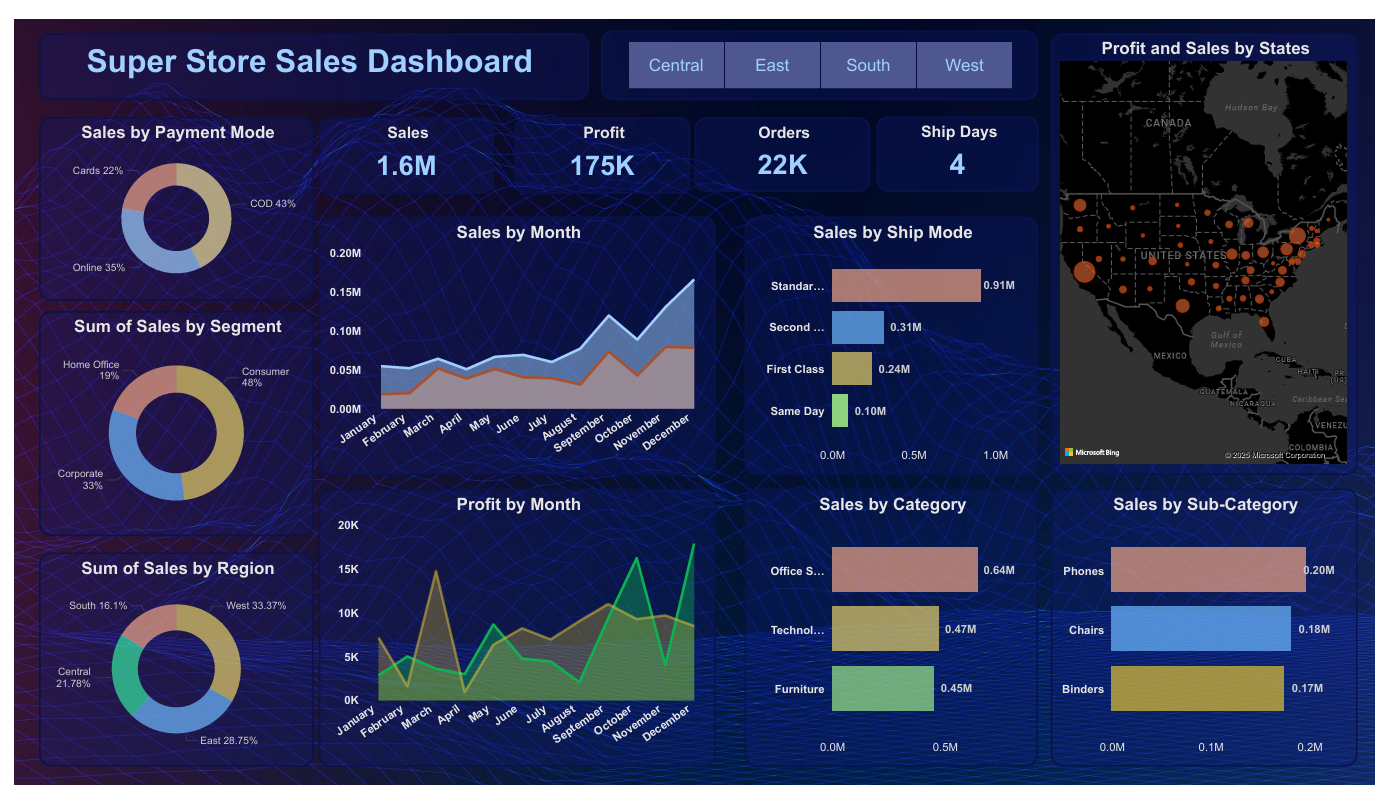

Layout of this report page (visuals, bound fields, positions):
{"tool":"powerbi","page":{"name":"Page 1","canvas":[1600,900],"ordinal":0},"visuals":[{"type":"clusteredBarChart","title":" Sales by Category","fields":{"Category":["SuperStore_Sales_Dataset.Category"],"Y":["Sum(SuperStore_Sales_Dataset.Sales)"]},"box":[859.3,551.9,345.1,327.2],"z":0},{"type":"clusteredBarChart","title":" Sales by Sub-Category","fields":{"Category":["SuperStore_Sales_Dataset.Sub-Category"],"Y":["Sum(SuperStore_Sales_Dataset.Sales)"]},"box":[1218.8,551.9,361.3,327.2],"z":1000},{"type":"clusteredBarChart","title":" Sales by Ship Mode","fields":{"Category":["SuperStore_Sales_Dataset.Ship Mode"],"Y":["Sum(SuperStore_Sales_Dataset.Sales)"]},"box":[859.3,231.9,345.1,303.8],"z":2000},{"type":"areaChart","title":"Sales by Month","fields":{"Category":["SuperStore_Sales_Dataset.Order Date.Variation.Date Hierarchy.Month"],"Series":["SuperStore_Sales_Dataset.Order Date.Variation.Date Hierarchy.Year"],"Y":["Sum(SuperStore_Sales_Dataset.Sales)"]},"box":[357.7,231.9,467.4,303.8],"z":3000},{"type":"areaChart","title":"Profit by Month","fields":{"Category":["SuperStore_Sales_Dataset.Order Date.Variation.Date Hierarchy.Month"],"Series":["SuperStore_Sales_Dataset.Order Date.Variation.Date Hierarchy.Year"],"Y":["Sum(SuperStore_Sales_Dataset.Profit)"]},"box":[357.7,551.9,467.4,327.2],"z":4000},{"type":"map","title":"Profit and Sales by States ","fields":{"Category":["SuperStore_Sales_Dataset.State"],"Size":["Sum(SuperStore_Sales_Dataset.Sales)"]},"box":[1218.8,16.2,361.3,519.5],"z":5000},{"type":"donutChart","fields":{"Category":["SuperStore_Sales_Dataset.Segment"],"Y":["Sum(SuperStore_Sales_Dataset.Sales)"]},"box":[28.8,343.3,323.6,264.3],"z":6000},{"type":"donutChart","title":"Sales by Payment Mode","fields":{"Category":["SuperStore_Sales_Dataset.Payment Mode"],"Y":["Sum(SuperStore_Sales_Dataset.Sales)"]},"box":[28.8,115,323.6,215.7],"z":7000},{"type":"slicer","fields":{"Values":["SuperStore_Sales_Dataset.Region"]},"box":[690.3,12.6,514.1,82.7],"z":8000},{"type":"textbox","box":[28.8,16.2,647.2,79.1],"z":9000},{"type":"card","title":"Sales","fields":{"Values":["Sum(SuperStore_Sales_Dataset.Sales)"]},"box":[357.7,115,206.7,89.9],"z":10000},{"type":"card","title":"Profit","fields":{"Values":["Sum(SuperStore_Sales_Dataset.Profit)"]},"box":[587.8,115,206.7,89.9],"z":11000},{"type":"card","title":"Orders","fields":{"Values":["Sum(SuperStore_Sales_Dataset.Quantity)"]},"box":[800,115,206.7,88.1],"z":12000},{"type":"card","title":"Ship Days","fields":{"Values":["Avg(SuperStore_Sales_Dataset.Delivery_Days)"]},"box":[1014,114.2,191,88.6],"z":13000},{"type":"donutChart","fields":{"Category":["SuperStore_Sales_Dataset.Region"],"Y":["Sum(SuperStore_Sales_Dataset.Sales)"]},"box":[28.8,627.4,323.6,251.7],"z":14000}]}

Visuals, with their boxes in screenshot pixels (x1, y1, x2, y2), scaled from the page's 1600x900 canvas onto the 1390x802 screenshot:
" Sales by Category" clusteredBarChart: 747:492:1046:783
" Sales by Sub-Category" clusteredBarChart: 1059:492:1373:783
" Sales by Ship Mode" clusteredBarChart: 747:207:1046:477
"Sales by Month" areaChart: 311:207:717:477
"Profit by Month" areaChart: 311:492:717:783
"Profit and Sales by States " map: 1059:14:1373:477
donutChart - SuperStore_Sales_Dataset.Segment x Sum(SuperStore_Sales_Dataset.Sales): 25:306:306:541
"Sales by Payment Mode" donutChart: 25:102:306:295
slicer - SuperStore_Sales_Dataset.Region: 600:11:1046:85
textbox: 25:14:587:85
"Sales" card: 311:102:490:183
"Profit" card: 511:102:690:183
"Orders" card: 695:102:875:181
"Ship Days" card: 881:102:1047:181
donutChart - SuperStore_Sales_Dataset.Region x Sum(SuperStore_Sales_Dataset.Sales): 25:559:306:783
